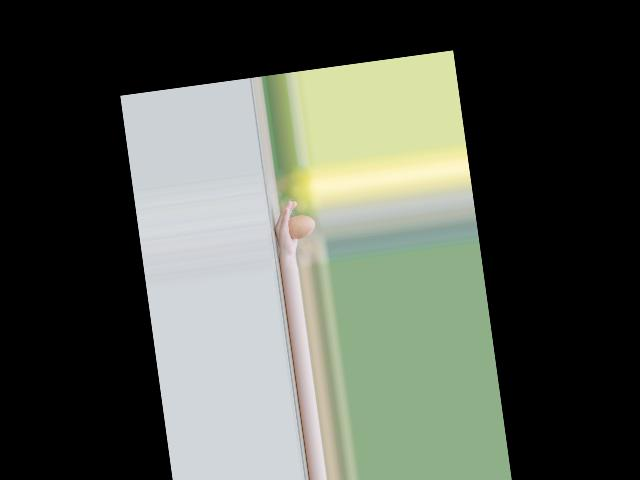egg: (287, 213, 316, 240)
